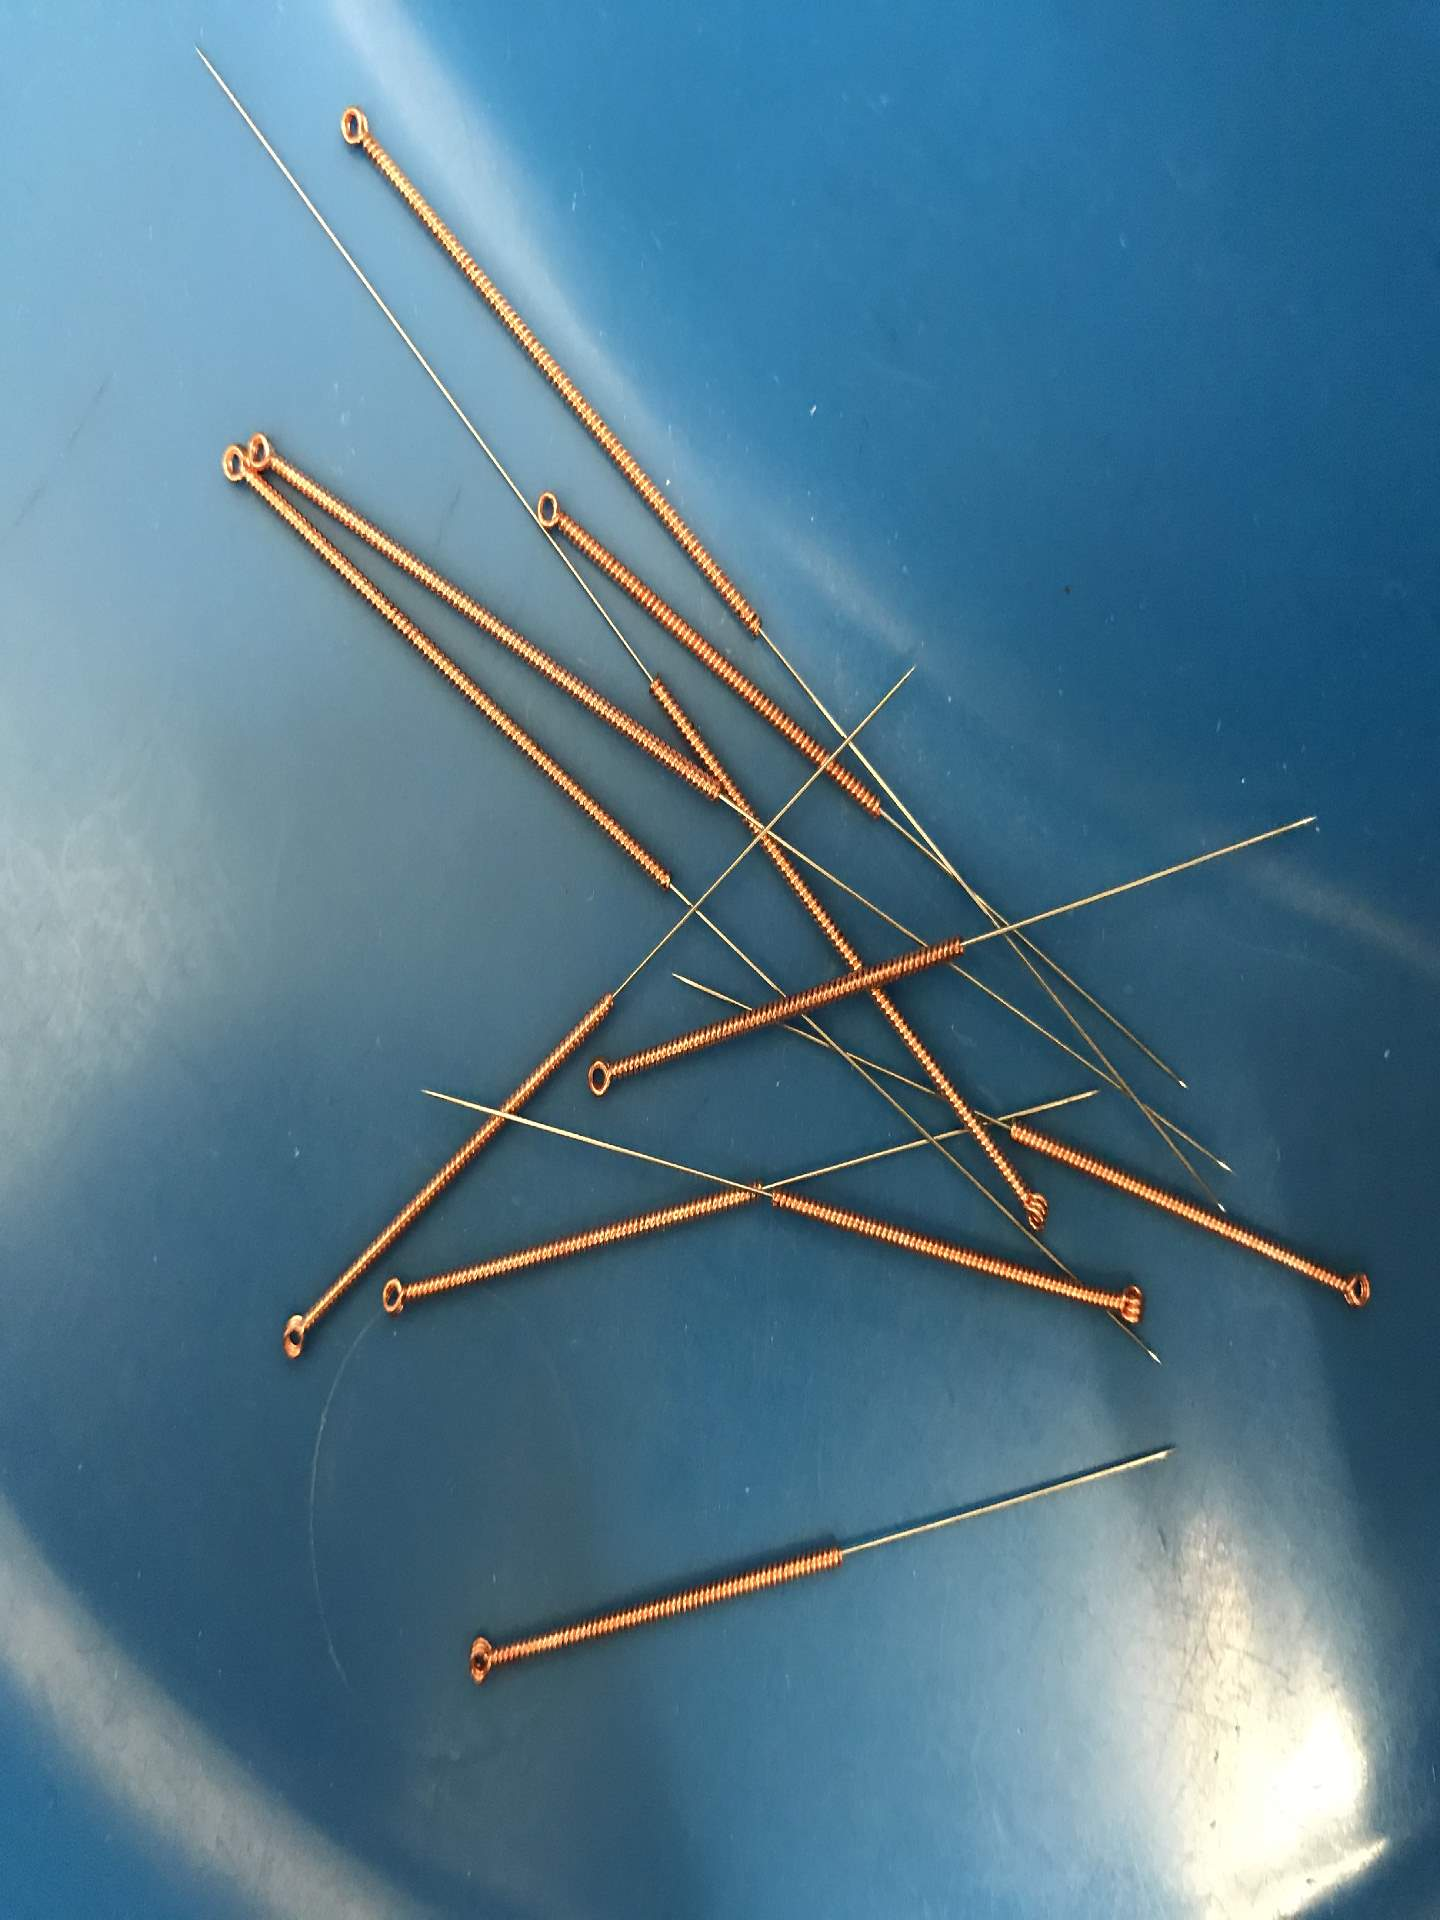needle: (457, 1627, 514, 1695), (271, 1302, 322, 1373), (330, 98, 386, 162), (1101, 1276, 1156, 1333), (371, 1268, 424, 1327), (578, 1048, 629, 1108), (1327, 1262, 1379, 1320), (526, 482, 576, 543), (1010, 1181, 1057, 1240), (210, 434, 253, 488), (245, 426, 283, 475)
